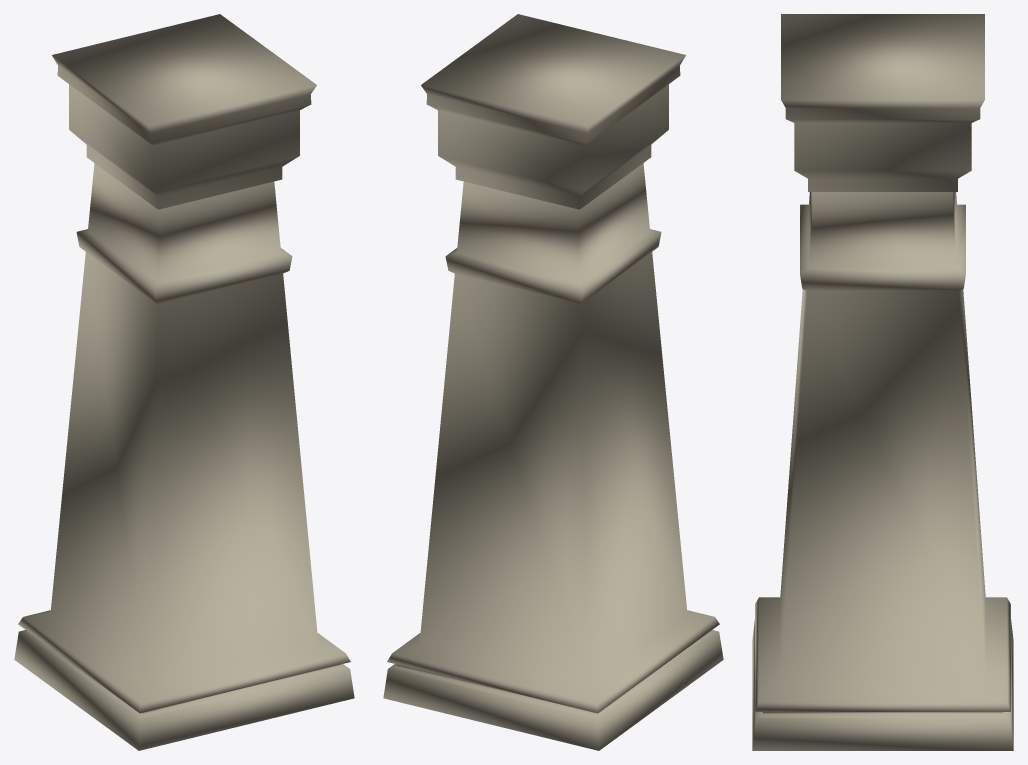
The model's file is Column_SquareSmall.glb.
3 views of the same model, side by side, from view 1: azimuth 30°, elevation 25°; view 2: azimuth 150°, elevation 25°; view 3: azimuth 270°, elevation 25° (orthographic). The views are drawn at different scales.
Parts seen in each view (by area): view 1: Column_SquareSmall; view 2: Column_SquareSmall; view 3: Column_SquareSmall.
Boxes of the visible parts, bbox=[...] form: Column_SquareSmall: bbox=[14, 14, 354, 750]; Column_SquareSmall: bbox=[383, 14, 723, 750]; Column_SquareSmall: bbox=[752, 14, 1013, 750].
Size of the model in its own units: 0.9073 by 2.45 by 0.9073.
